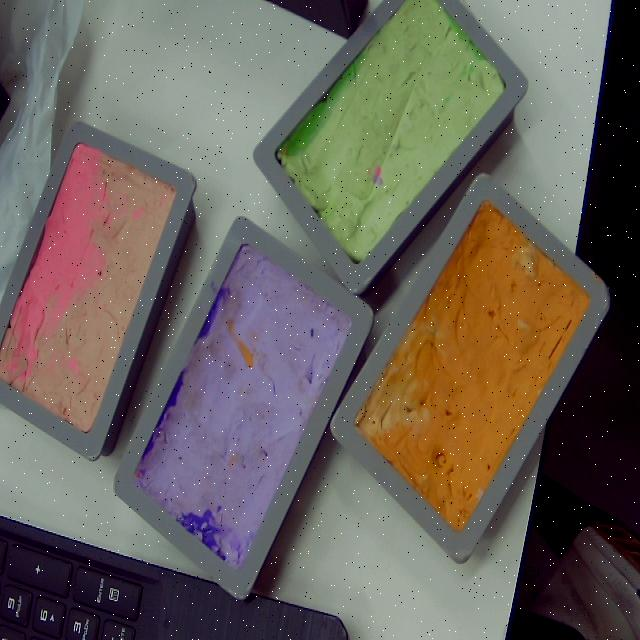block: (328, 177, 610, 568), (113, 218, 369, 600), (255, 2, 529, 298), (0, 122, 197, 464)
